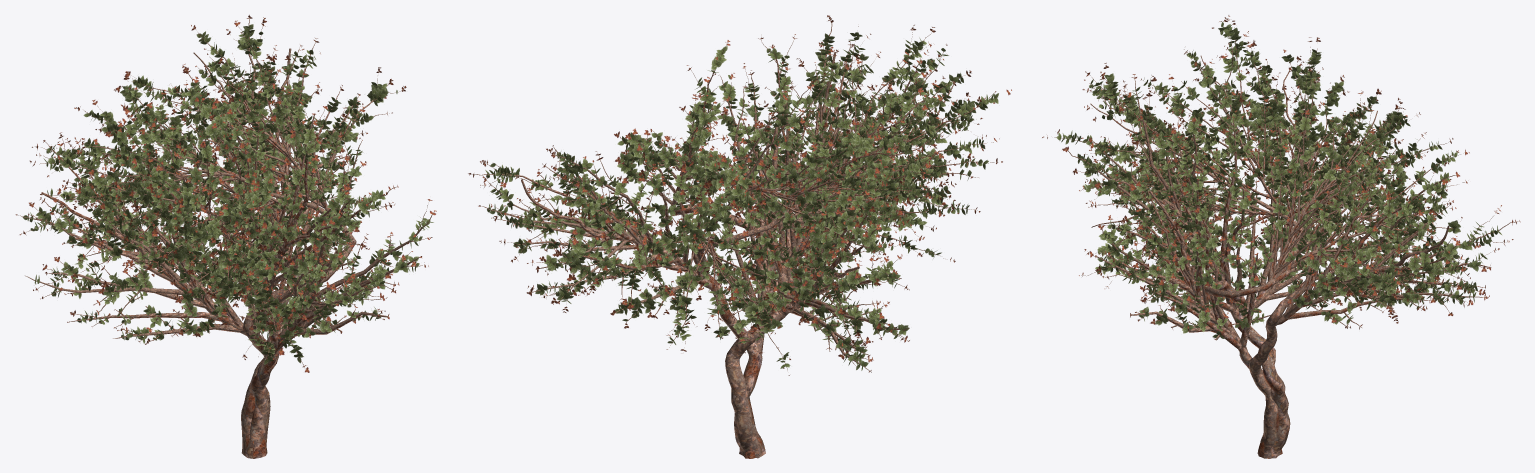
Rendered from otroarbolito.glb.
3 views of the same model, side by side, from view 1: azimuth 30°, elevation 25°; view 2: azimuth 150°, elevation 25°; view 3: azimuth 270°, elevation 25° (orthographic). The views are drawn at different scales.
Parts seen in each view (by area): view 1: Hojas, Hojas_Hojas_Mat_0.001, Tronco, Hojas_Rojas, Tronco_Tronco_Mat_0.001, Tronco_Tronco_Mat_0.002; view 2: Hojas, Hojas_Hojas_Mat_0.001, Tronco, Hojas_Rojas, Tronco_Tronco_Mat_0.001, Tronco_Tronco_Mat_0.002; view 3: Hojas, Hojas_Hojas_Mat_0.001, Tronco, Tronco_Tronco_Mat_0.001, Hojas_Rojas, Tronco_Tronco_Mat_0.002.
Boxes of the visible parts, <box> form: Hojas: <box>22,24,427,361</box>; Hojas_Hojas_Mat_0.001: <box>47,29,433,364</box>; Tronco: <box>18,14,434,434</box>; Hojas_Rojas: <box>15,15,436,374</box>; Tronco_Tronco_Mat_0.001: <box>61,26,421,458</box>; Tronco_Tronco_Mat_0.002: <box>21,80,397,343</box>; Hojas: <box>485,33,956,370</box>; Hojas_Hojas_Mat_0.001: <box>553,32,998,368</box>; Tronco: <box>471,26,994,449</box>; Hojas_Rojas: <box>468,15,1011,375</box>; Tronco_Tronco_Mat_0.001: <box>496,31,978,458</box>; Tronco_Tronco_Mat_0.002: <box>619,16,945,366</box>; Hojas: <box>1077,22,1487,333</box>; Hojas_Hojas_Mat_0.001: <box>1056,24,1502,338</box>; Tronco: <box>1054,27,1519,458</box>; Tronco_Tronco_Mat_0.001: <box>1075,43,1465,458</box>; Hojas_Rojas: <box>1042,15,1520,339</box>; Tronco_Tronco_Mat_0.002: <box>1065,45,1386,306</box>.
Size of the model in its own units: 4.82 by 4.77 by 5.24.
3 materials, 3 textured.
